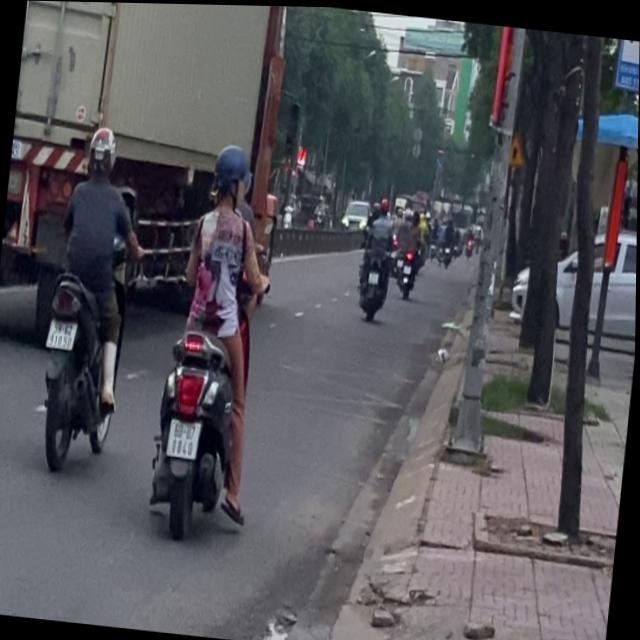helmet: (208, 138, 251, 208), (84, 123, 119, 179)
licenseplate: (140, 130, 285, 544), (29, 117, 149, 476)
nohelmet: (168, 418, 200, 457), (47, 318, 77, 348)
